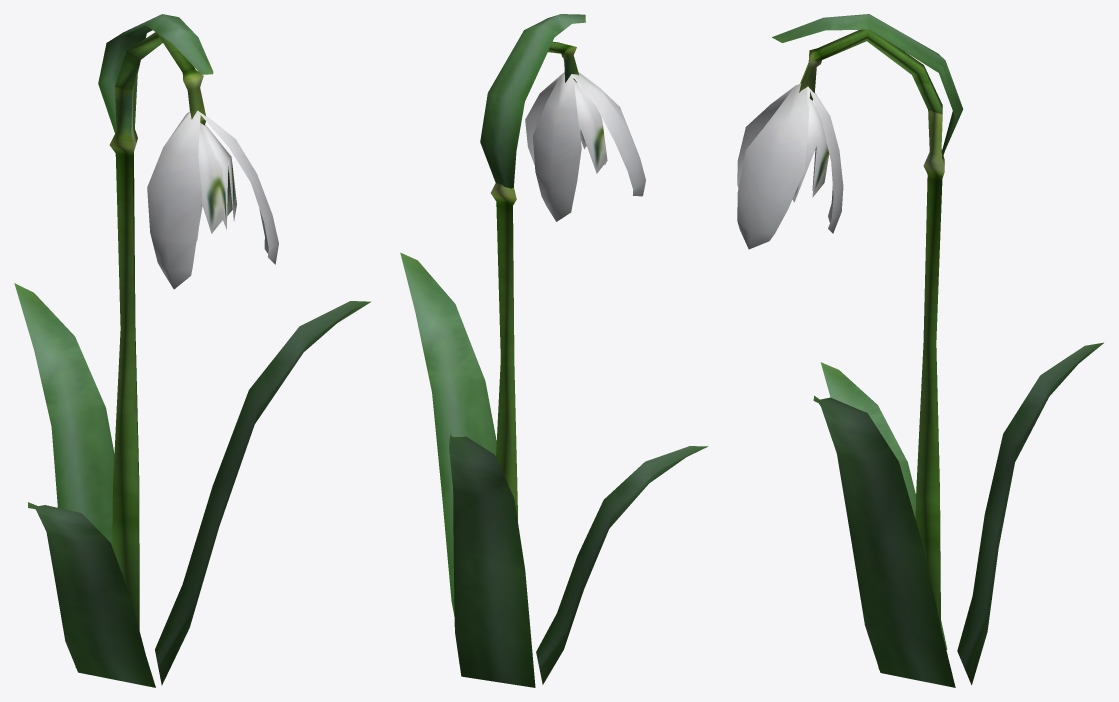
Rendered from Plant_Snowdrop.FBX.
3 renders of one model, left to right at view 1: azimuth 30°, elevation 25°; view 2: azimuth 150°, elevation 25°; view 3: azimuth 270°, elevation 25°, orthographic. The views are drawn at different scales.
Parts seen in each view (by area): view 1: Snowdrop; view 2: Snowdrop; view 3: Snowdrop.
Boxes of the visible parts, x1=… form: Snowdrop: x1=14, y1=14, x2=370, y2=687; Snowdrop: x1=400, y1=14, x2=708, y2=687; Snowdrop: x1=737, y1=14, x2=1103, y2=687.
Bounding box in the file's own units: 3.67 × 6.97 × 3.54.
Materials: 1 (1 with a texture image).
